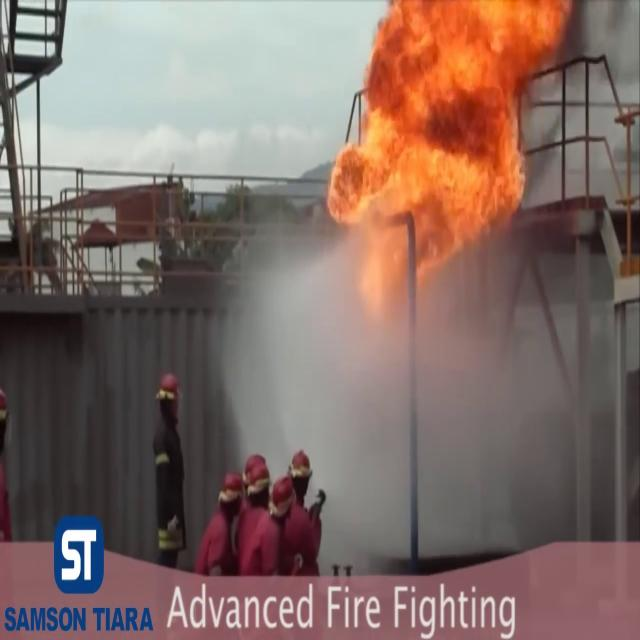Fire: (321, 0, 565, 299)
